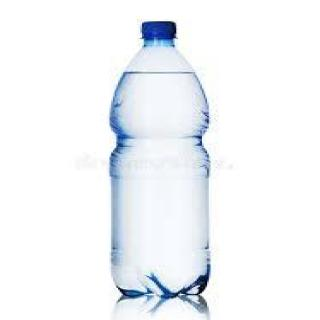Plastic-bottle: (105, 20, 215, 300)
